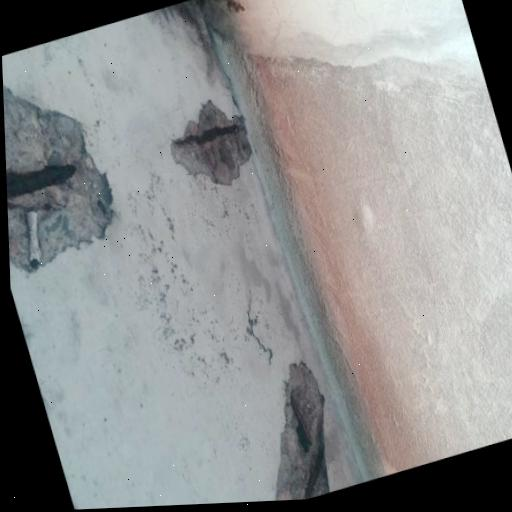exposed_rebar: (6, 164, 76, 199), (176, 122, 240, 145), (291, 396, 312, 452), (307, 448, 322, 497)
spalling: (3, 86, 116, 274), (273, 362, 330, 501), (171, 100, 251, 186)
